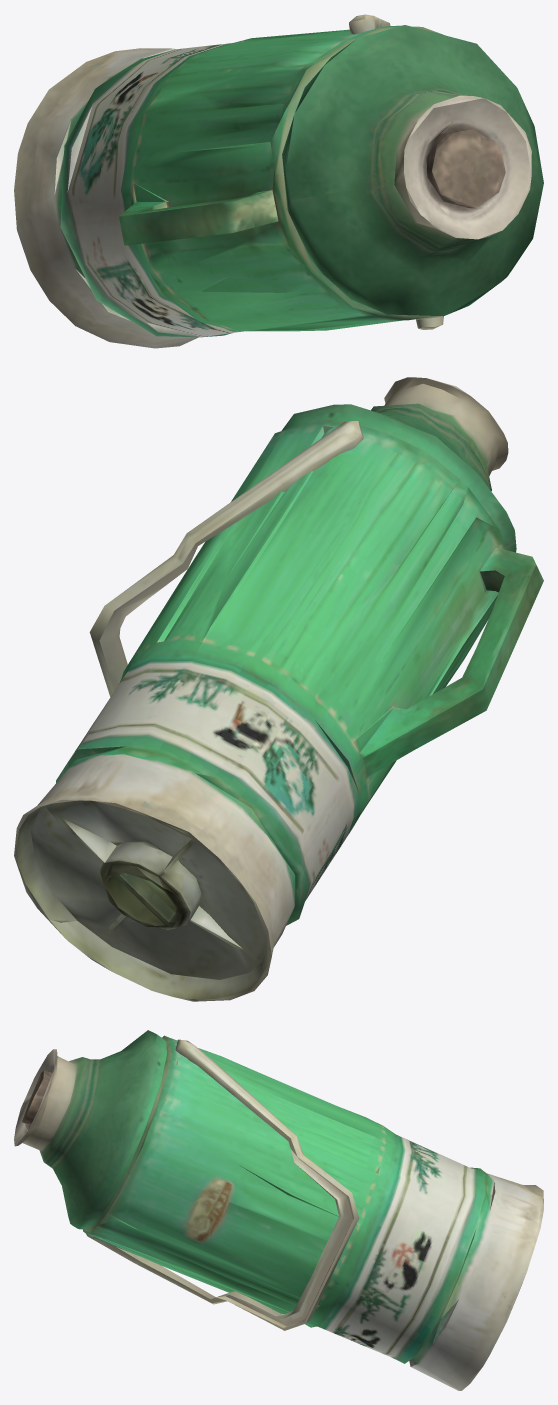
The model's file is ref_thermosbottle.glb.
3 views of the same model, one above another, from view 1: azimuth 30°, elevation 25°; view 2: azimuth 150°, elevation 25°; view 3: azimuth 270°, elevation 25° (orthographic). The views are drawn at different scales.
Visible parts, largest first — view 1: ref_thermosbottle; view 2: ref_thermosbottle; view 3: ref_thermosbottle.
Boxes of the visible parts, x1=… form: ref_thermosbottle: x1=14, y1=14, x2=543, y2=348; ref_thermosbottle: x1=14, y1=377, x2=543, y2=1001; ref_thermosbottle: x1=14, y1=1030, x2=543, y2=1390.
Size of the model in its own units: 0.549 by 0.7074 by 1.
Materials: 1 (1 with a texture image).
